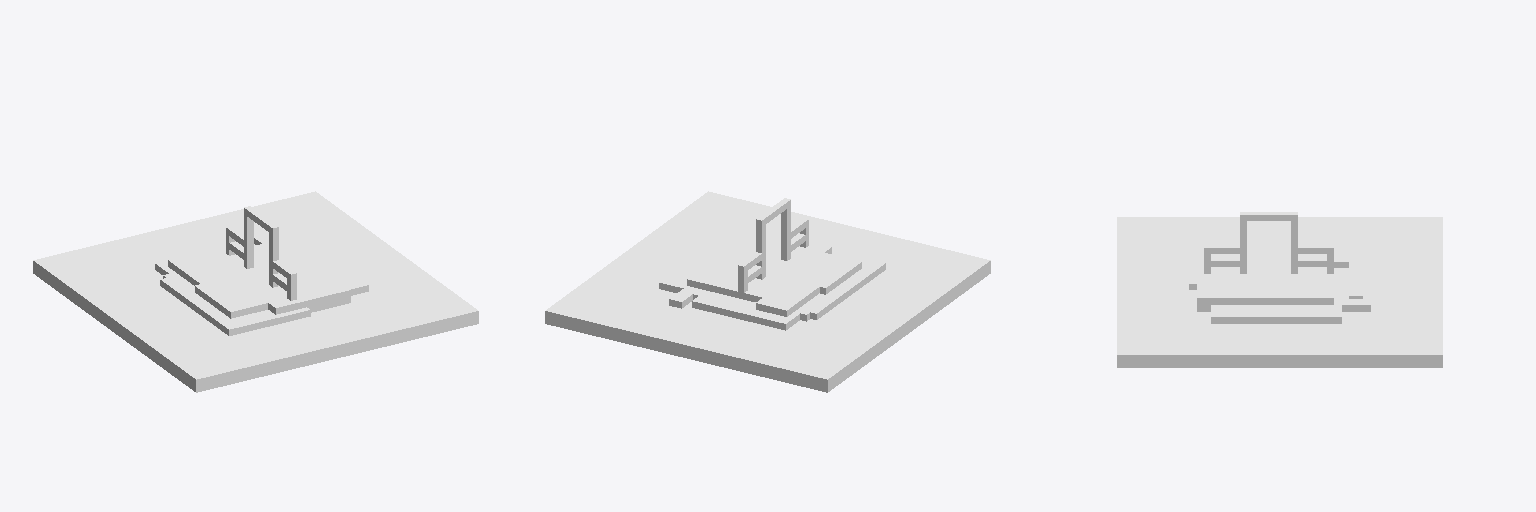
Rendered from gate_scene.obj.
The picture shows the model from 3 angles: view 1: azimuth 30°, elevation 25°; view 2: azimuth 150°, elevation 25°; view 3: azimuth 270°, elevation 25°; orthographic projection.
Size of the model in its own units: 45 by 13 by 45.